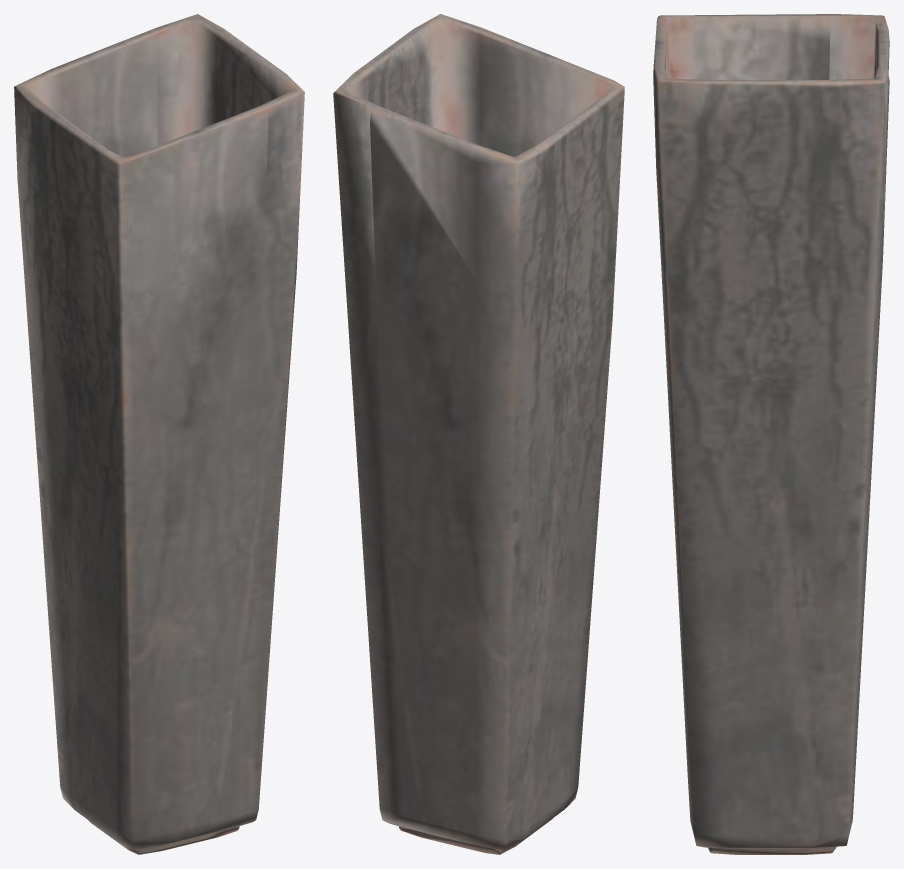
Rendered from ceramic_vase_03.glb.
3 views of the same model, side by side, from view 1: azimuth 30°, elevation 25°; view 2: azimuth 150°, elevation 25°; view 3: azimuth 270°, elevation 25° (orthographic). The views are drawn at different scales.
Parts seen in each view (by area): view 1: ceramic_vase_03; view 2: ceramic_vase_03; view 3: ceramic_vase_03.
Part boxes in pixels (<box>): ceramic_vase_03: <box>14,14,304,854</box>; ceramic_vase_03: <box>333,14,624,854</box>; ceramic_vase_03: <box>653,14,889,854</box>.
Bounding box in the file's own units: 0.1118 × 0.4143 × 0.1116.
Materials: 1 (1 with a texture image).
